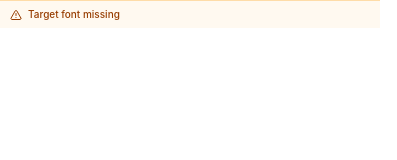
Test case: MappingWarning › can be reached with the keyboard and explains itself on focus
Focus the text "Target font missing": (190, 14) [0, 0, 380, 28]
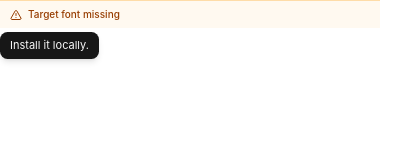
Now the tooltip reads "Install it locally.", box [10, 38, 89, 52]
